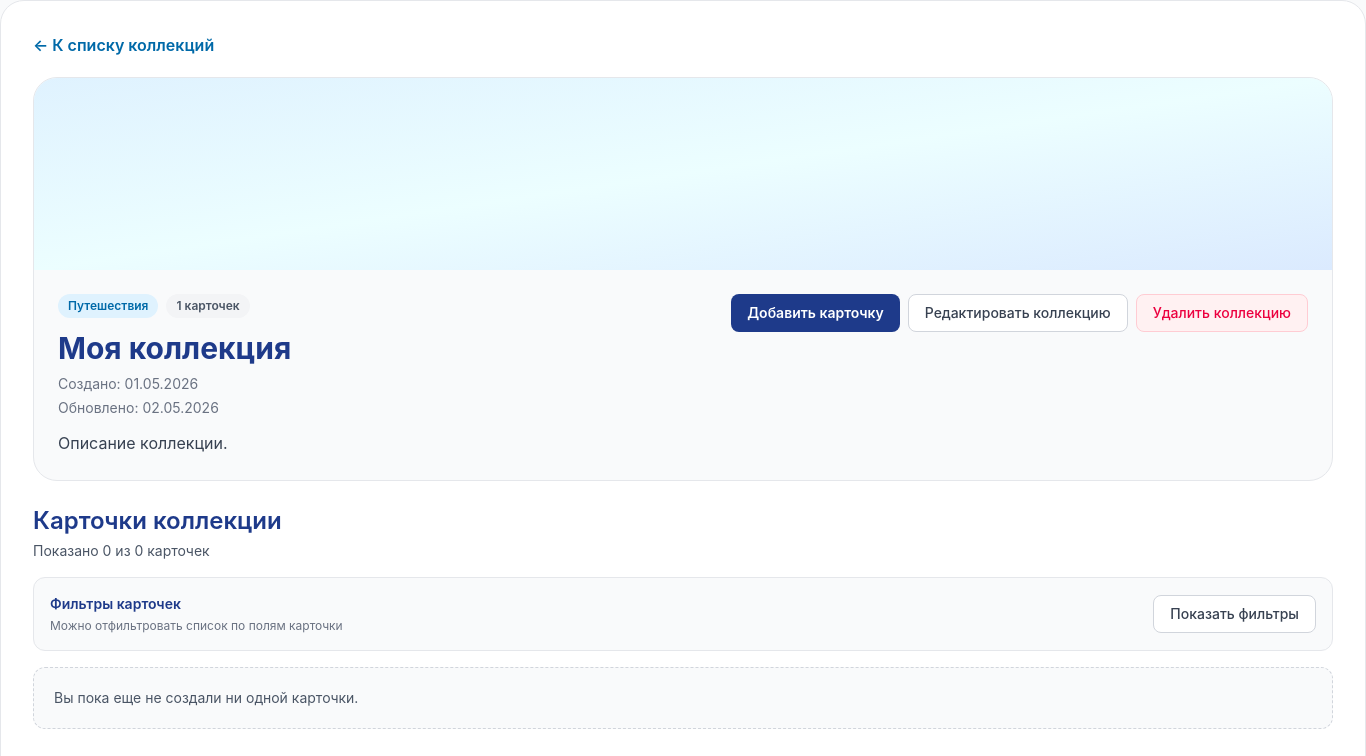
CollectionDetailPage › shows collection delete error when deletion fails
Expected: the heading "Моя коллекция" is shown, [58,330,291,366]
Click the button "Удалить коллекцию". click: (1222,313)
box: [1136,294,1308,332]
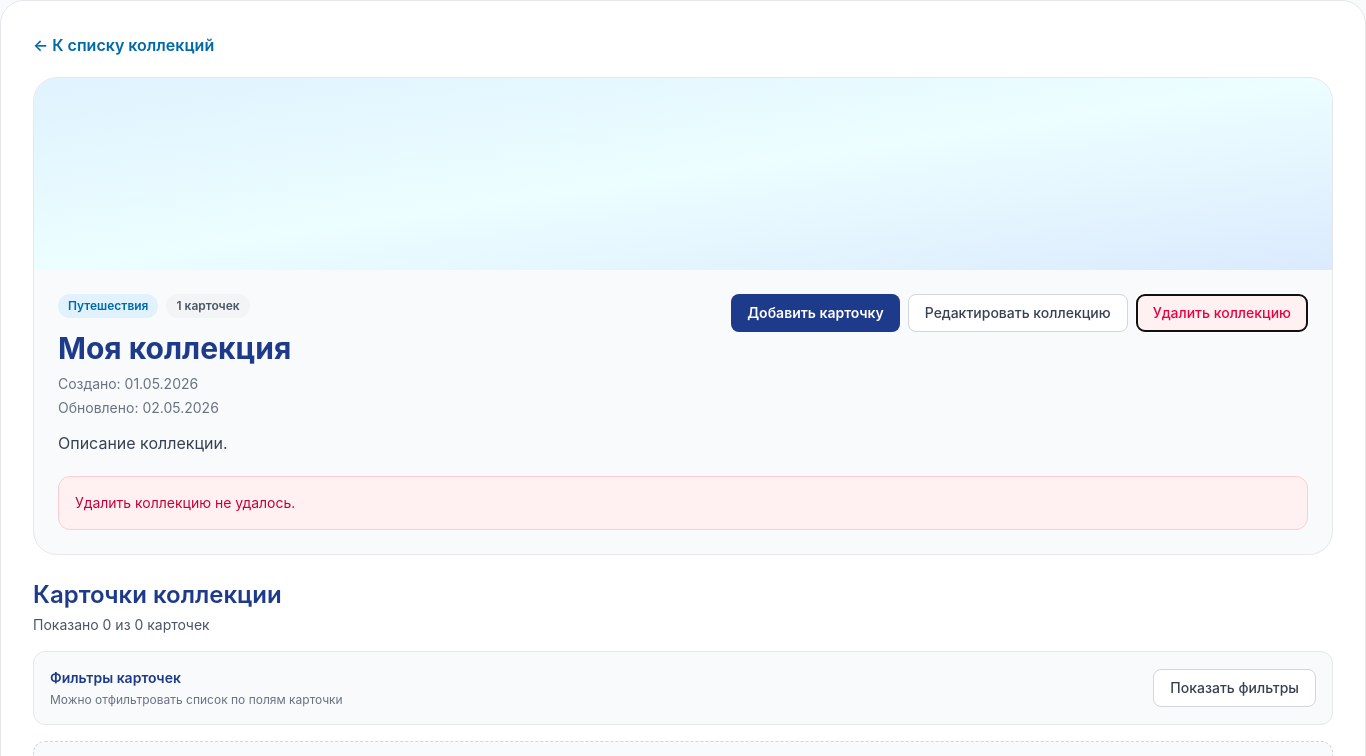
Now the text "Удалить коллекцию не удалось." is shown, box [75,494,295,511]
